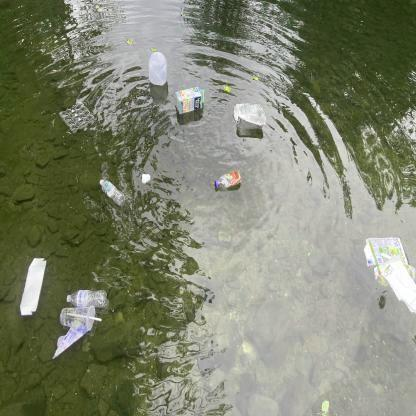Metal: (231, 101, 268, 130)
Plastic: (57, 289, 109, 328), (56, 100, 100, 134), (51, 322, 90, 360), (212, 167, 244, 193), (96, 177, 124, 205), (147, 51, 167, 86)
Trash: (140, 172, 151, 185)
